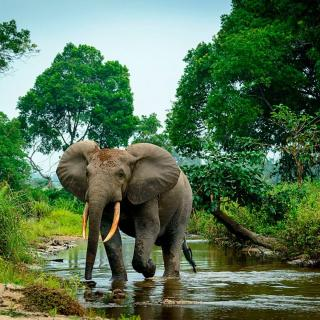Elephant: (54, 137, 210, 285)
